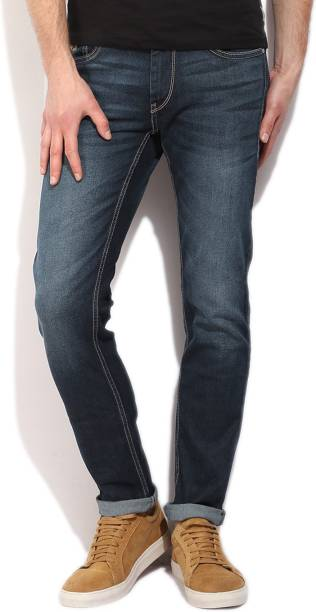Jeans: (31, 43, 269, 528)
